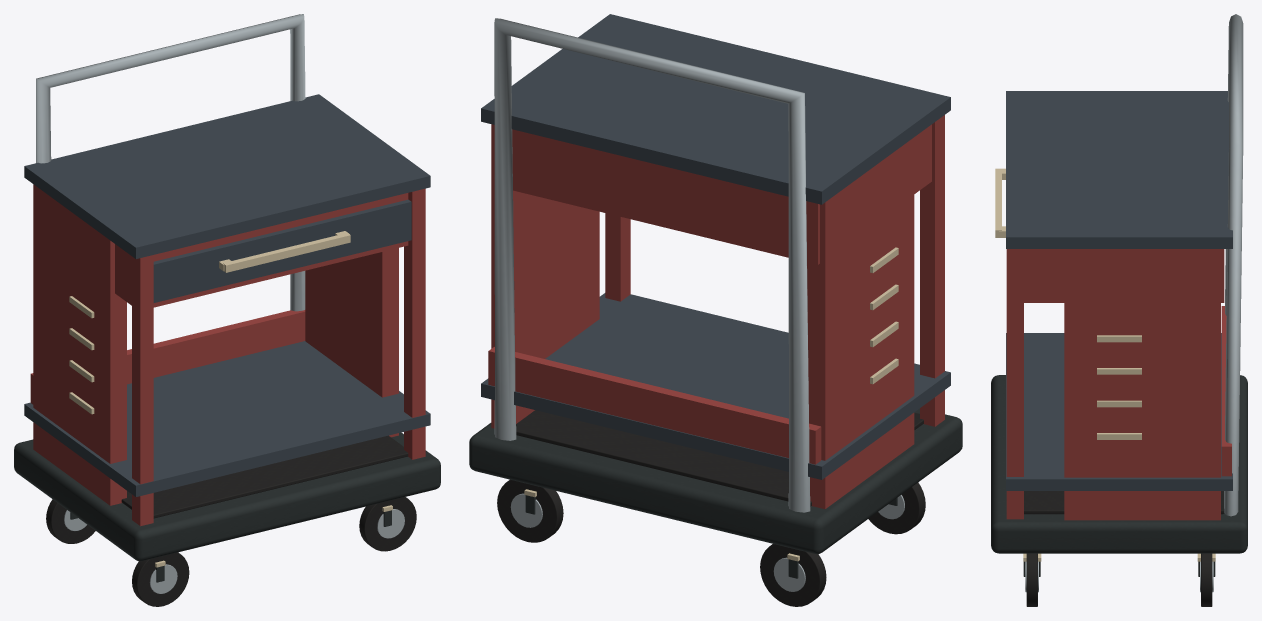
3 renders of one model, left to right at view 1: azimuth 30°, elevation 25°; view 2: azimuth 150°, elevation 25°; view 3: azimuth 270°, elevation 25°, orthographic. The views are drawn at different scales.
Visible parts, largest first — view 1: cart-upper-deck, cart-lower-deck, press-formed-side--0.311, Platform cart deck, press-formed-side-0.311, drawer-face, Load deck traction surface, Folding cart push handle, front-box-post--0.311, tool-tray-back, front-box-post-0.311, shallow-tool-drawer (+4 smaller); view 2: cart-upper-deck, press-formed-side--0.311, cart-lower-deck, Platform cart deck, Folding cart push handle, shallow-tool-drawer, press-formed-side-0.311, tool-tray-back, Load deck traction surface, front-box-post--0.311, wheel-right-rear, wheel-left-rear (+4 smaller); view 3: press-formed-side-0.311, cart-upper-deck, Platform cart deck, cart-lower-deck, Folding cart push handle, front-box-post-0.311, shallow-tool-drawer, Load deck traction surface, tool-tray-back, wheel-right-front, wheel-right-rear, drawer-pull (+2 smaller).
Boxes of the visible parts, x1,y1,x2,y2 form: cart-upper-deck: [24, 94, 430, 258]; cart-lower-deck: [24, 341, 430, 496]; press-formed-side--0.311: [33, 184, 126, 505]; Platform cart deck: [14, 432, 440, 561]; press-formed-side-0.311: [305, 248, 398, 437]; drawer-face: [153, 199, 411, 302]; Load deck traction surface: [121, 435, 408, 518]; Folding cart push handle: [36, 14, 305, 311]; front-box-post--0.311: [132, 255, 153, 526]; tool-tray-back: [30, 310, 305, 404]; front-box-post-0.311: [404, 188, 425, 459]; shallow-tool-drawer: [115, 193, 408, 307]; cart-upper-deck: [481, 14, 950, 204]; press-formed-side--0.311: [807, 137, 914, 509]; cart-lower-deck: [481, 293, 950, 479]; Platform cart deck: [469, 408, 962, 554]; Folding cart push handle: [494, 18, 810, 512]; shallow-tool-drawer: [512, 124, 931, 264]; press-formed-side-0.311: [491, 124, 599, 428]; tool-tray-back: [488, 347, 821, 464]; Load deck traction surface: [516, 410, 923, 506]; front-box-post--0.311: [920, 115, 944, 426]; wheel-right-rear: [497, 479, 563, 542]; wheel-left-rear: [760, 544, 826, 606]; press-formed-side-0.311: [1064, 249, 1220, 520]; cart-upper-deck: [1006, 91, 1232, 248]; Platform cart deck: [991, 375, 1247, 553]; cart-lower-deck: [1006, 333, 1232, 490]; Folding cart push handle: [1224, 14, 1243, 516]; front-box-post-0.311: [1006, 249, 1023, 519]; shallow-tool-drawer: [1024, 249, 1224, 302]; Load deck traction surface: [1024, 491, 1224, 514]; tool-tray-back: [1221, 306, 1231, 476]; wheel-right-front: [1026, 553, 1037, 606]; wheel-right-rear: [1201, 553, 1212, 606]; drawer-pull: [995, 168, 1001, 237].
Size of the model in its own units: 0.7 by 1 by 0.5.
6 materials, 3 textured.
